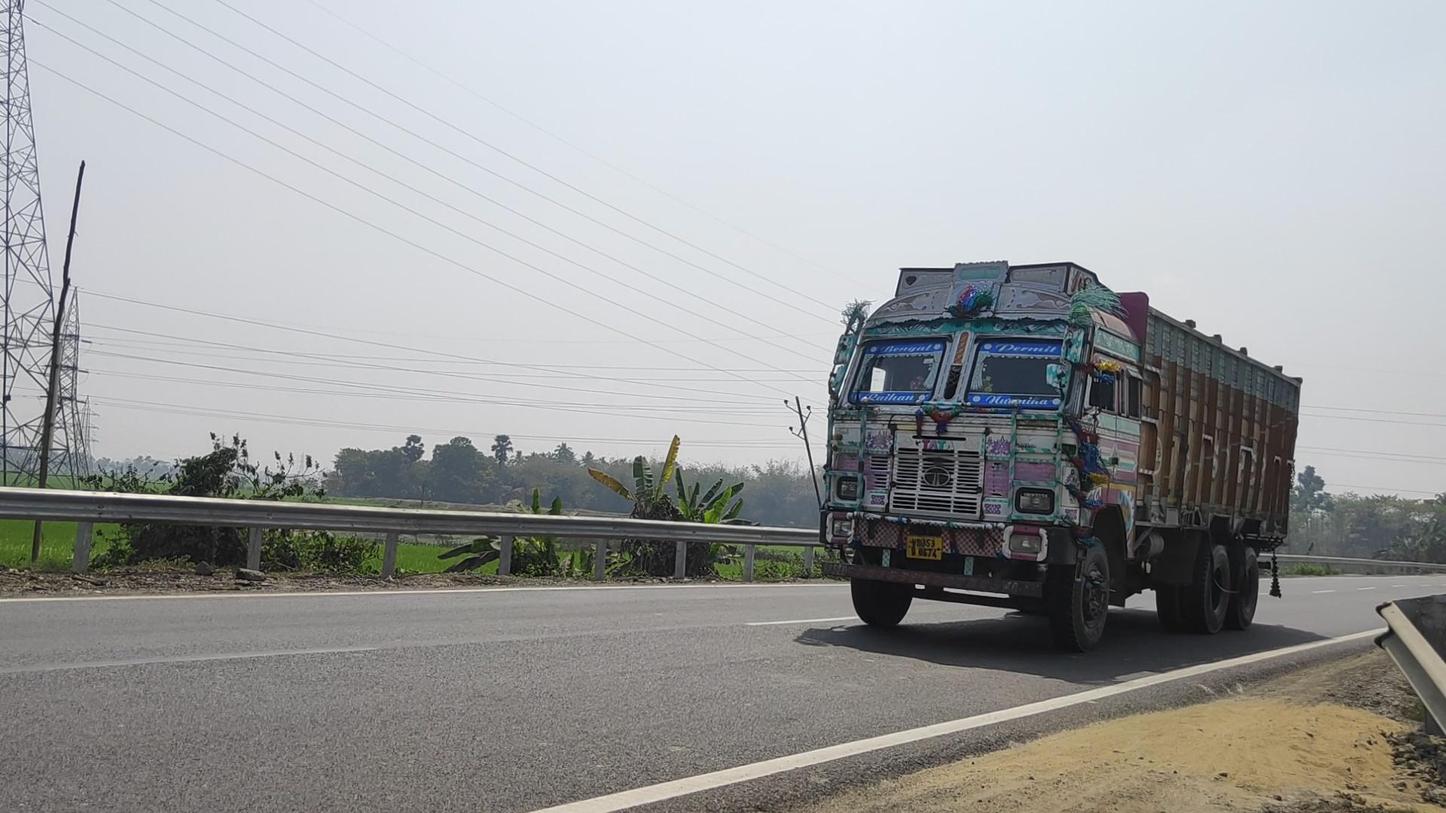truck: (819, 260, 1304, 655)
